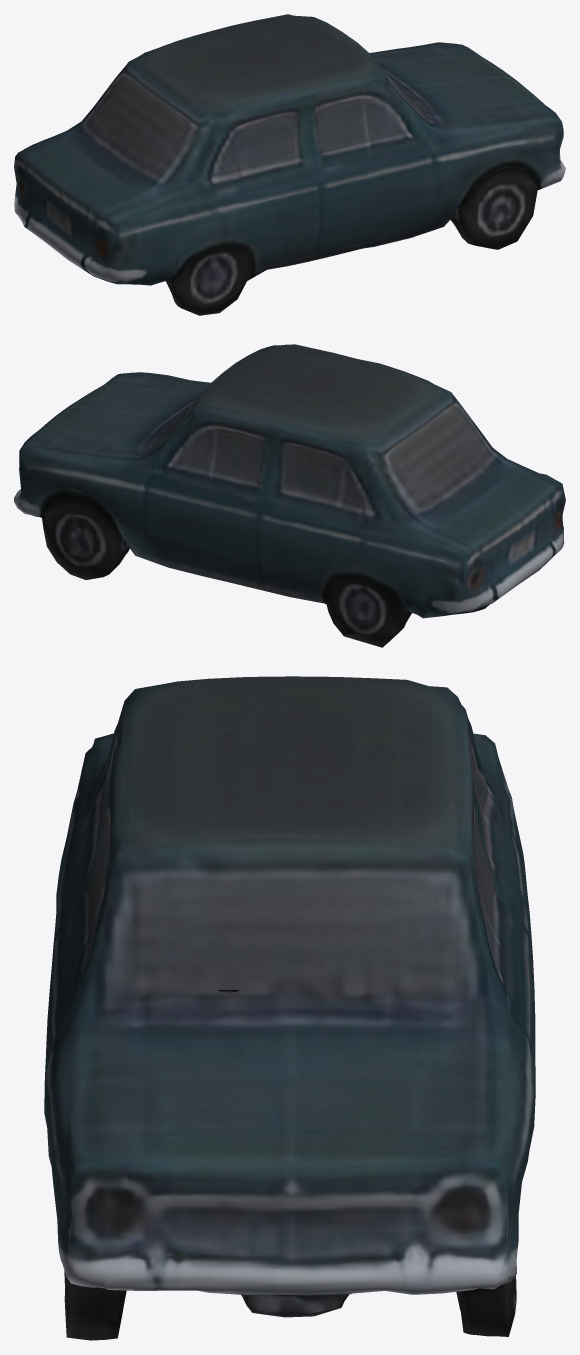
Rendered from e4722924e7e7_Old_Soviet_era_car_.fbx.
3 renders of one model, top to bottom at view 1: azimuth 30°, elevation 25°; view 2: azimuth 150°, elevation 25°; view 3: azimuth 270°, elevation 25°, orthographic. The views are drawn at different scales.
Parts seen in each view (by area): view 1: mesh; view 2: mesh; view 3: mesh.
Boxes of the visible parts, x1=… form: mesh: x1=14, y1=14, x2=565, y2=315; mesh: x1=14, y1=344, x2=565, y2=647; mesh: x1=44, y1=676, x2=535, y2=1340.
Bounding box in the file's own units: 4.65 × 2.12 × 1.9.
